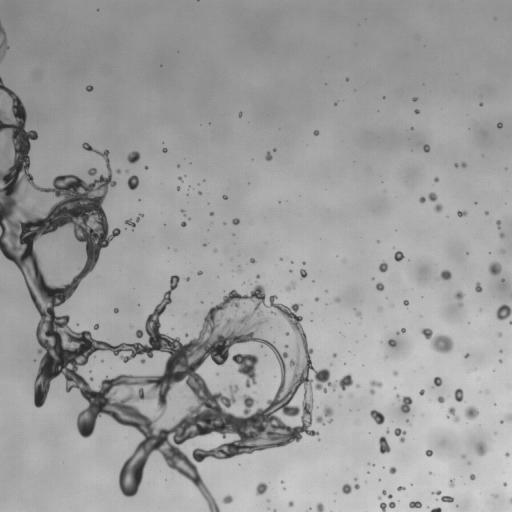droplet: (396, 395, 412, 413), (496, 304, 511, 320), (370, 409, 384, 425), (125, 214, 142, 227), (379, 436, 390, 453), (447, 407, 459, 422), (488, 262, 501, 275), (465, 406, 478, 419), (369, 380, 381, 394), (127, 151, 140, 163), (127, 175, 138, 189), (394, 428, 405, 442), (380, 501, 395, 511), (476, 442, 487, 455), (256, 482, 267, 495), (455, 291, 464, 306), (454, 388, 463, 401), (440, 270, 451, 280), (342, 483, 351, 494), (394, 251, 403, 261), (409, 501, 421, 508), (428, 192, 437, 201), (433, 377, 442, 386), (379, 262, 387, 272), (223, 495, 232, 503), (441, 496, 453, 502), (457, 210, 467, 217), (475, 282, 482, 292), (434, 204, 442, 212), (388, 339, 396, 347), (300, 269, 307, 278), (316, 415, 323, 424), (316, 502, 323, 511), (423, 144, 430, 152), (265, 152, 272, 160), (88, 168, 96, 175), (376, 282, 383, 290), (389, 466, 396, 474), (232, 218, 239, 225), (437, 396, 444, 403), (425, 449, 432, 456), (86, 85, 93, 91), (419, 196, 425, 203), (276, 322, 281, 330), (449, 479, 454, 487), (397, 486, 405, 491), (355, 310, 360, 317), (496, 220, 500, 228), (403, 300, 409, 305), (419, 389, 424, 395), (506, 414, 511, 420), (497, 123, 502, 128), (313, 130, 318, 135), (461, 162, 466, 167), (181, 221, 186, 226), (250, 258, 255, 263), (286, 286, 291, 291), (470, 474, 475, 479), (354, 484, 359, 489), (288, 501, 293, 506), (412, 97, 417, 101), (414, 109, 419, 113), (162, 148, 167, 152), (178, 177, 183, 181), (434, 177, 438, 182), (181, 209, 185, 214), (499, 233, 504, 237), (197, 271, 202, 275), (114, 308, 118, 313), (94, 324, 98, 329), (140, 359, 145, 363), (393, 371, 398, 375), (116, 169, 120, 173), (223, 195, 227, 199), (335, 298, 339, 302), (505, 452, 509, 456), (239, 112, 242, 116), (386, 429, 389, 433), (480, 103, 483, 106), (454, 163, 457, 166), (198, 191, 201, 194), (485, 211, 488, 214), (210, 212, 213, 215), (315, 297, 318, 300), (498, 333, 501, 336), (333, 353, 336, 356), (465, 354, 468, 357), (499, 359, 502, 362), (90, 377, 93, 380), (145, 166, 147, 169), (177, 187, 180, 189), (256, 275, 259, 277), (186, 278, 189, 280), (185, 334, 188, 336), (503, 483, 506, 485), (346, 78, 348, 80), (335, 102, 337, 104), (24, 193, 26, 195), (203, 244, 205, 246), (214, 249, 216, 251), (303, 262, 305, 264), (502, 279, 504, 281), (499, 350, 501, 352), (349, 395, 351, 397), (406, 420, 408, 422), (462, 455, 464, 457), (354, 478, 356, 480), (281, 481, 283, 483), (495, 495, 497, 497), (378, 497, 380, 499)
ligament: (0, 77, 351, 511), (421, 328, 453, 353), (0, 23, 8, 60), (323, 405, 333, 422), (382, 490, 392, 498), (431, 490, 441, 495), (397, 328, 405, 334), (430, 507, 441, 511), (510, 498, 511, 502), (510, 321, 511, 324), (273, 510, 276, 511)
